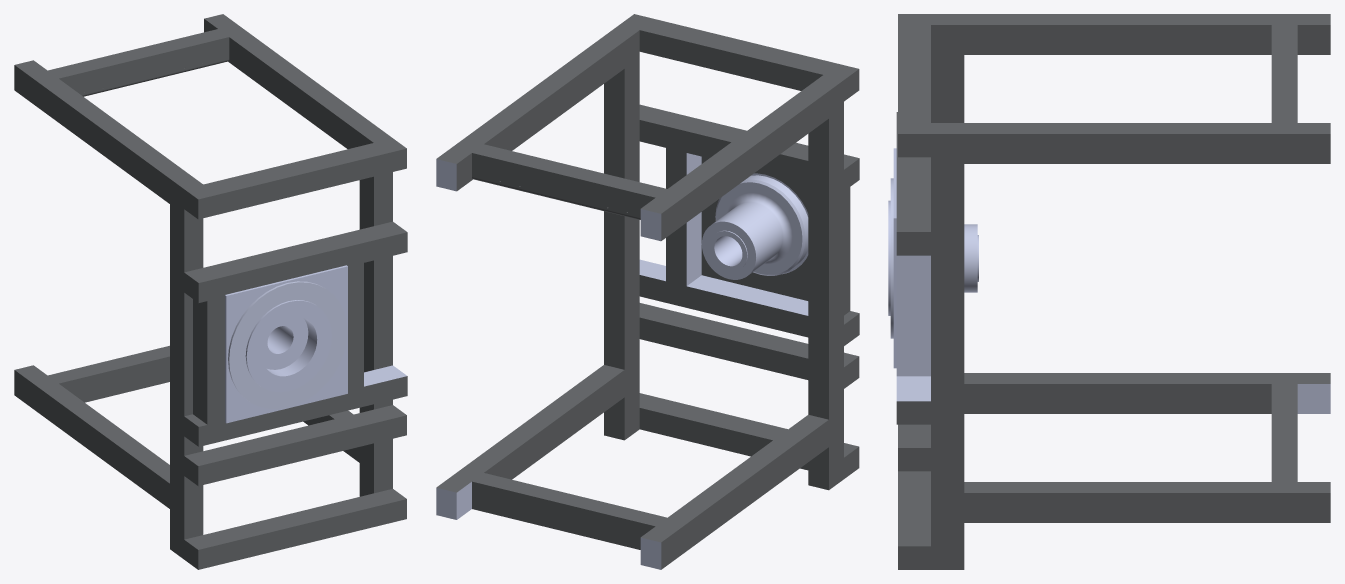
3 renders of one model, left to right at view 1: azimuth 30°, elevation 25°; view 2: azimuth 150°, elevation 25°; view 3: azimuth 270°, elevation 25°, orthographic. The views are drawn at different scales.
Visible parts, largest first — view 1: _ncl1_5, _ncl1_1, _ncl1_3, _ncl1_7; view 2: _ncl1_5, _ncl1_3, _ncl1_7, _ncl1_1; view 3: _ncl1_5, _ncl1_7, _ncl1_3, _ncl1_1.
Part boxes in pixels (x1,y1,x2,y2): _ncl1_5: (14,14,407,569); _ncl1_1: (225,265,347,423); _ncl1_3: (228,281,347,409); _ncl1_7: (364,365,406,386); _ncl1_5: (436,14,859,569); _ncl1_3: (701,175,808,279); _ncl1_7: (436,153,808,569); _ncl1_1: (714,173,808,273); _ncl1_5: (896,14,1330,569); _ncl1_7: (896,255,1330,413); _ncl1_3: (890,178,978,338); _ncl1_1: (888,148,896,368).
Bounding box in the file's own units: 1.2 × 2.04 × 1.87.
